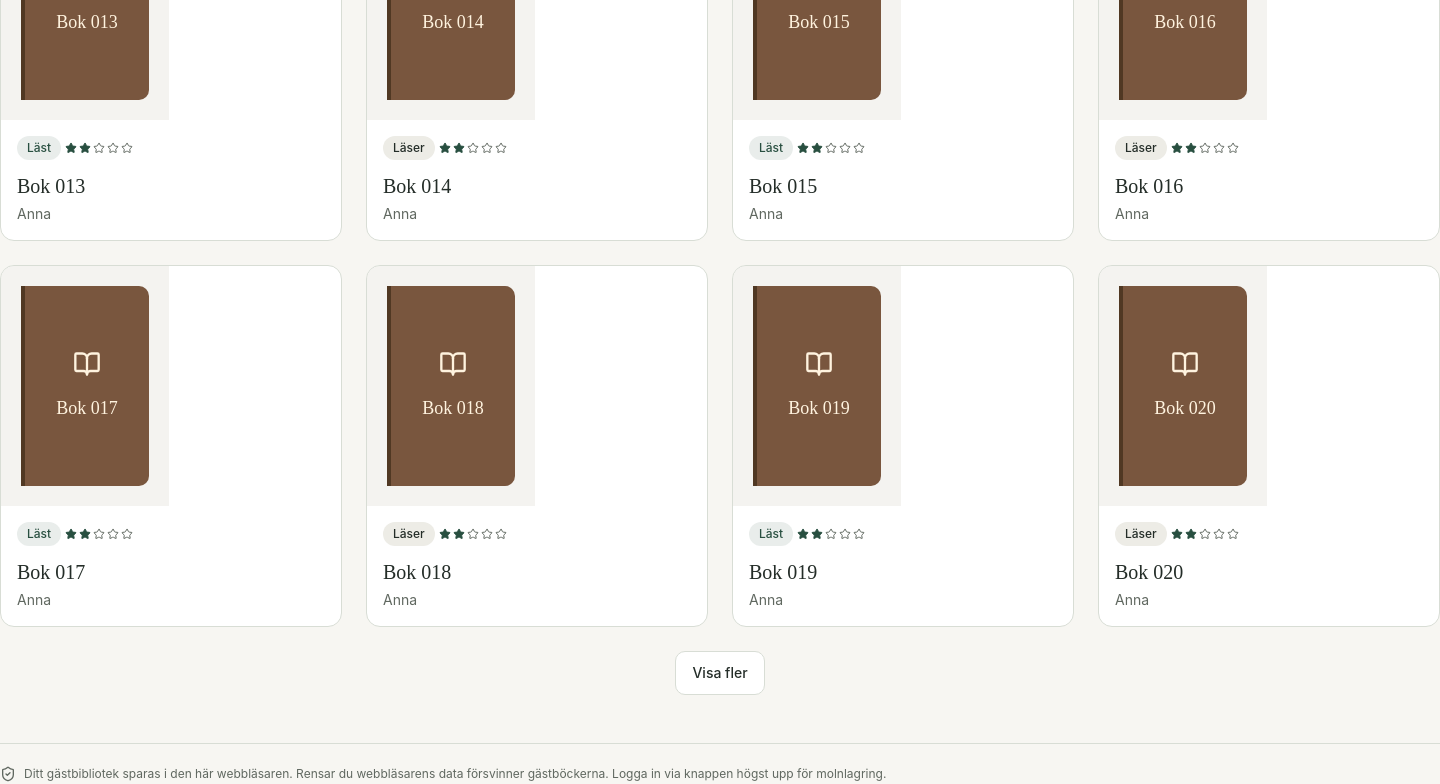
visa fler böcker › visar 20, sedan 40 och till sist 45 böcker utan dubbletter
The image size is (1440, 784).
(page scrolled)
What coordinates should you click on to do the following:
click the button "Visa fler"
I would click on:
 (720, 673)
Its box is 675,651 -> 765,695.
(page scrolled)
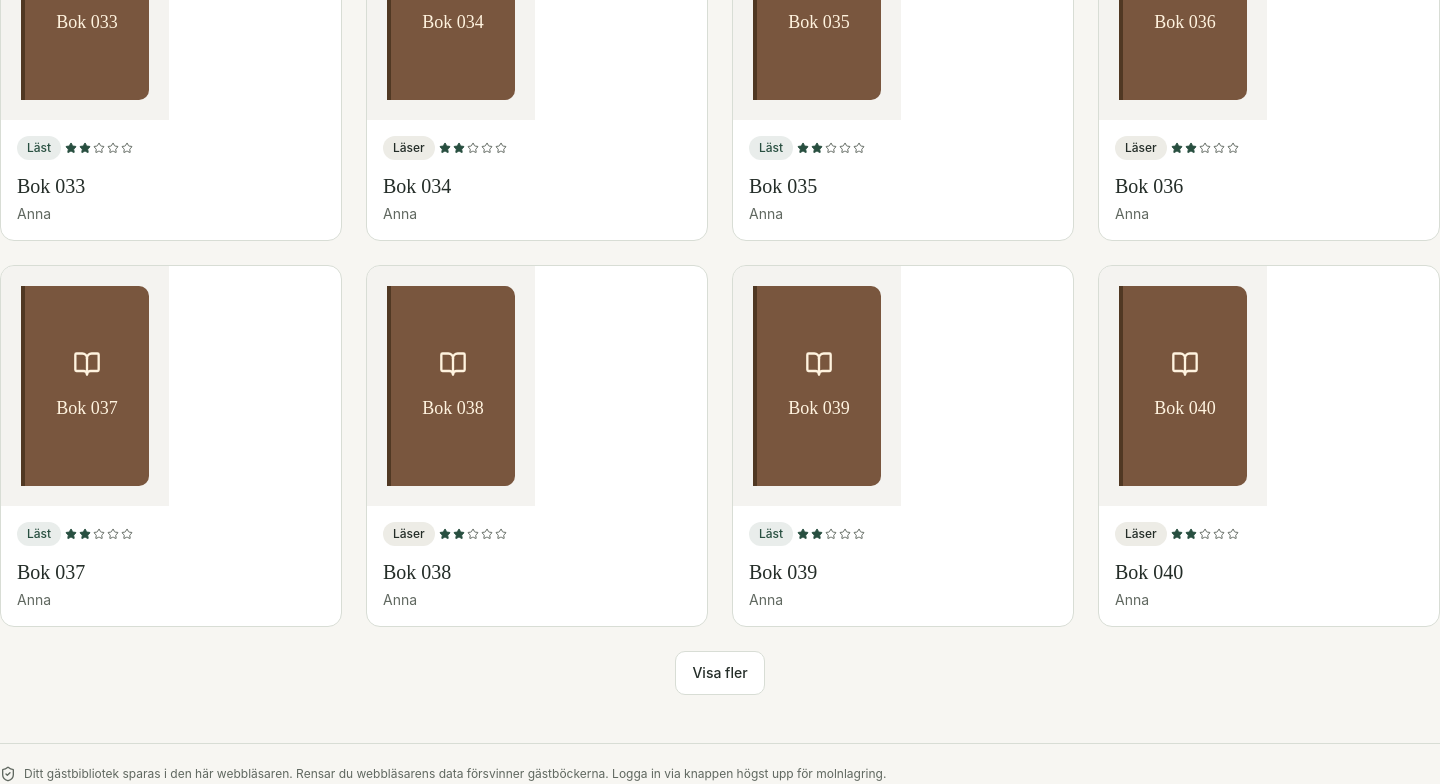
What coordinates should you click on to do the following:
click the button "Visa fler"
I would click on:
 (720, 673)
Its box is 675,651 -> 765,695.
(page scrolled)
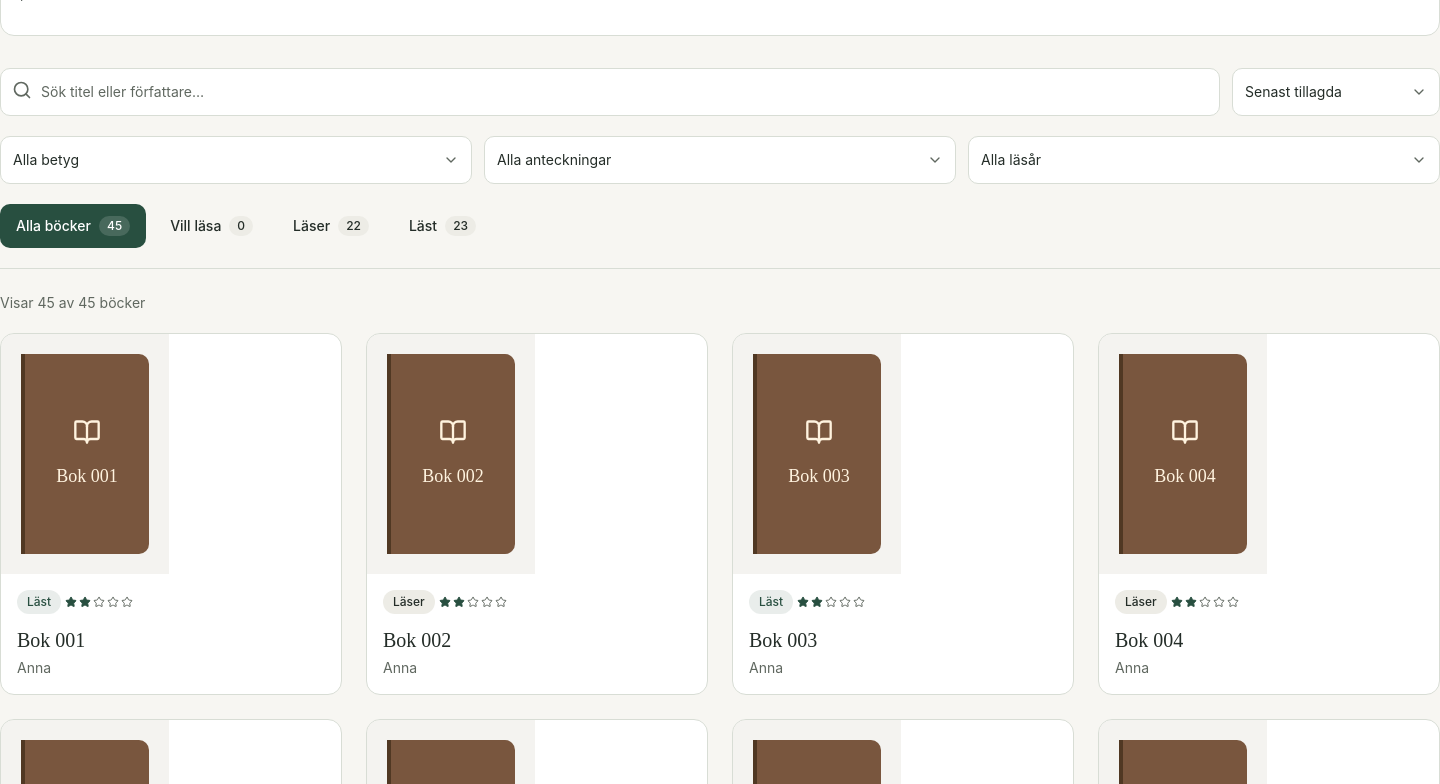
Expected: the number of buttons named "Visa Bok " is 45
Expected: the text "Visar 45 av 45 böcker" is shown, 0,294 -> 145,311
Expected: the button "Visa fler" is gone
